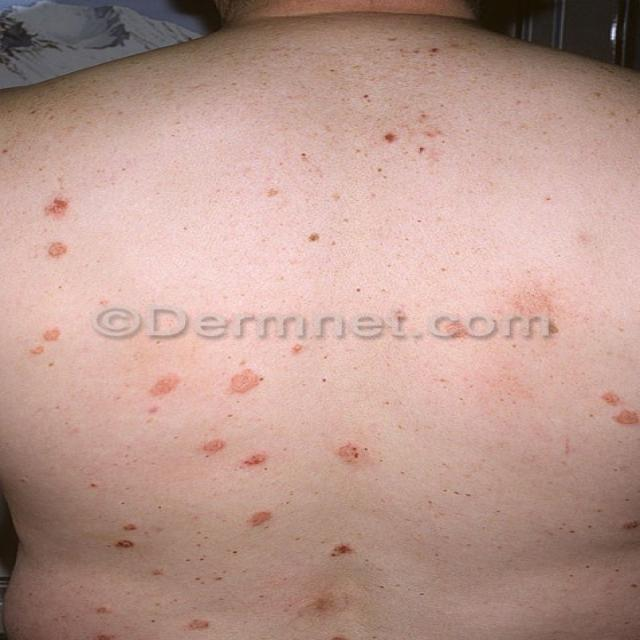Eczema: (24, 109, 639, 640)
